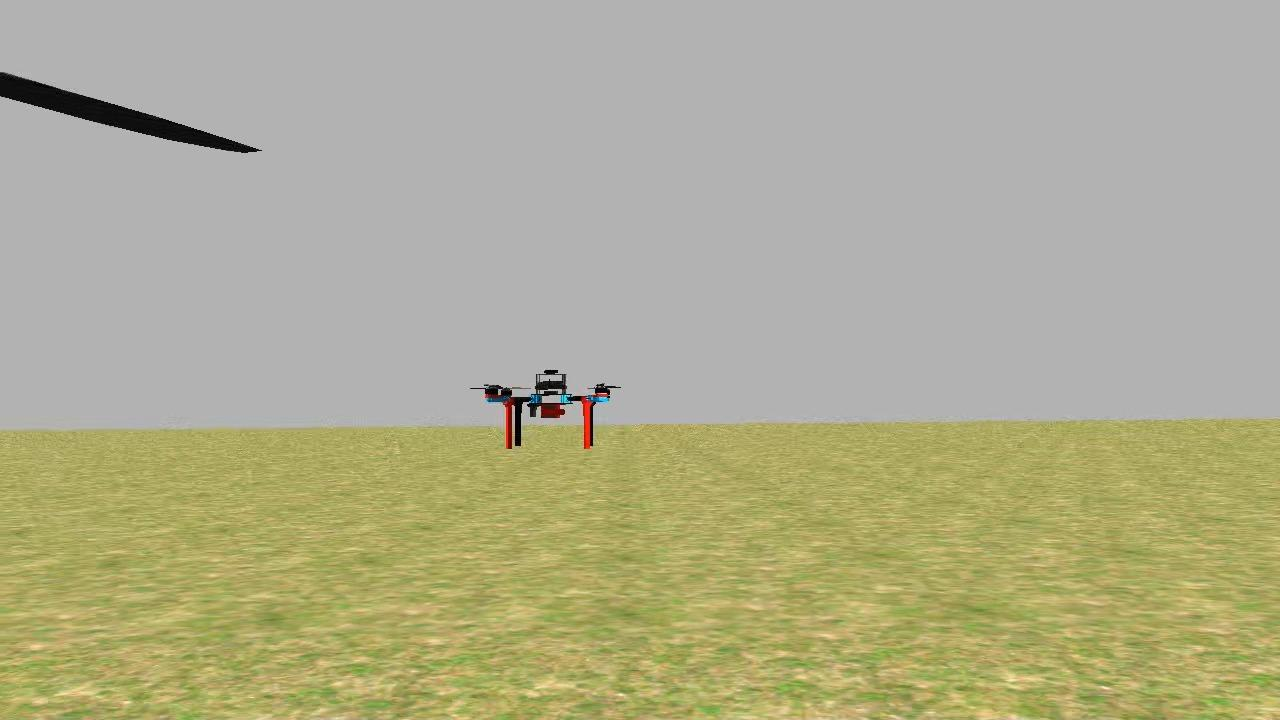UAV: (470, 361, 634, 458)
